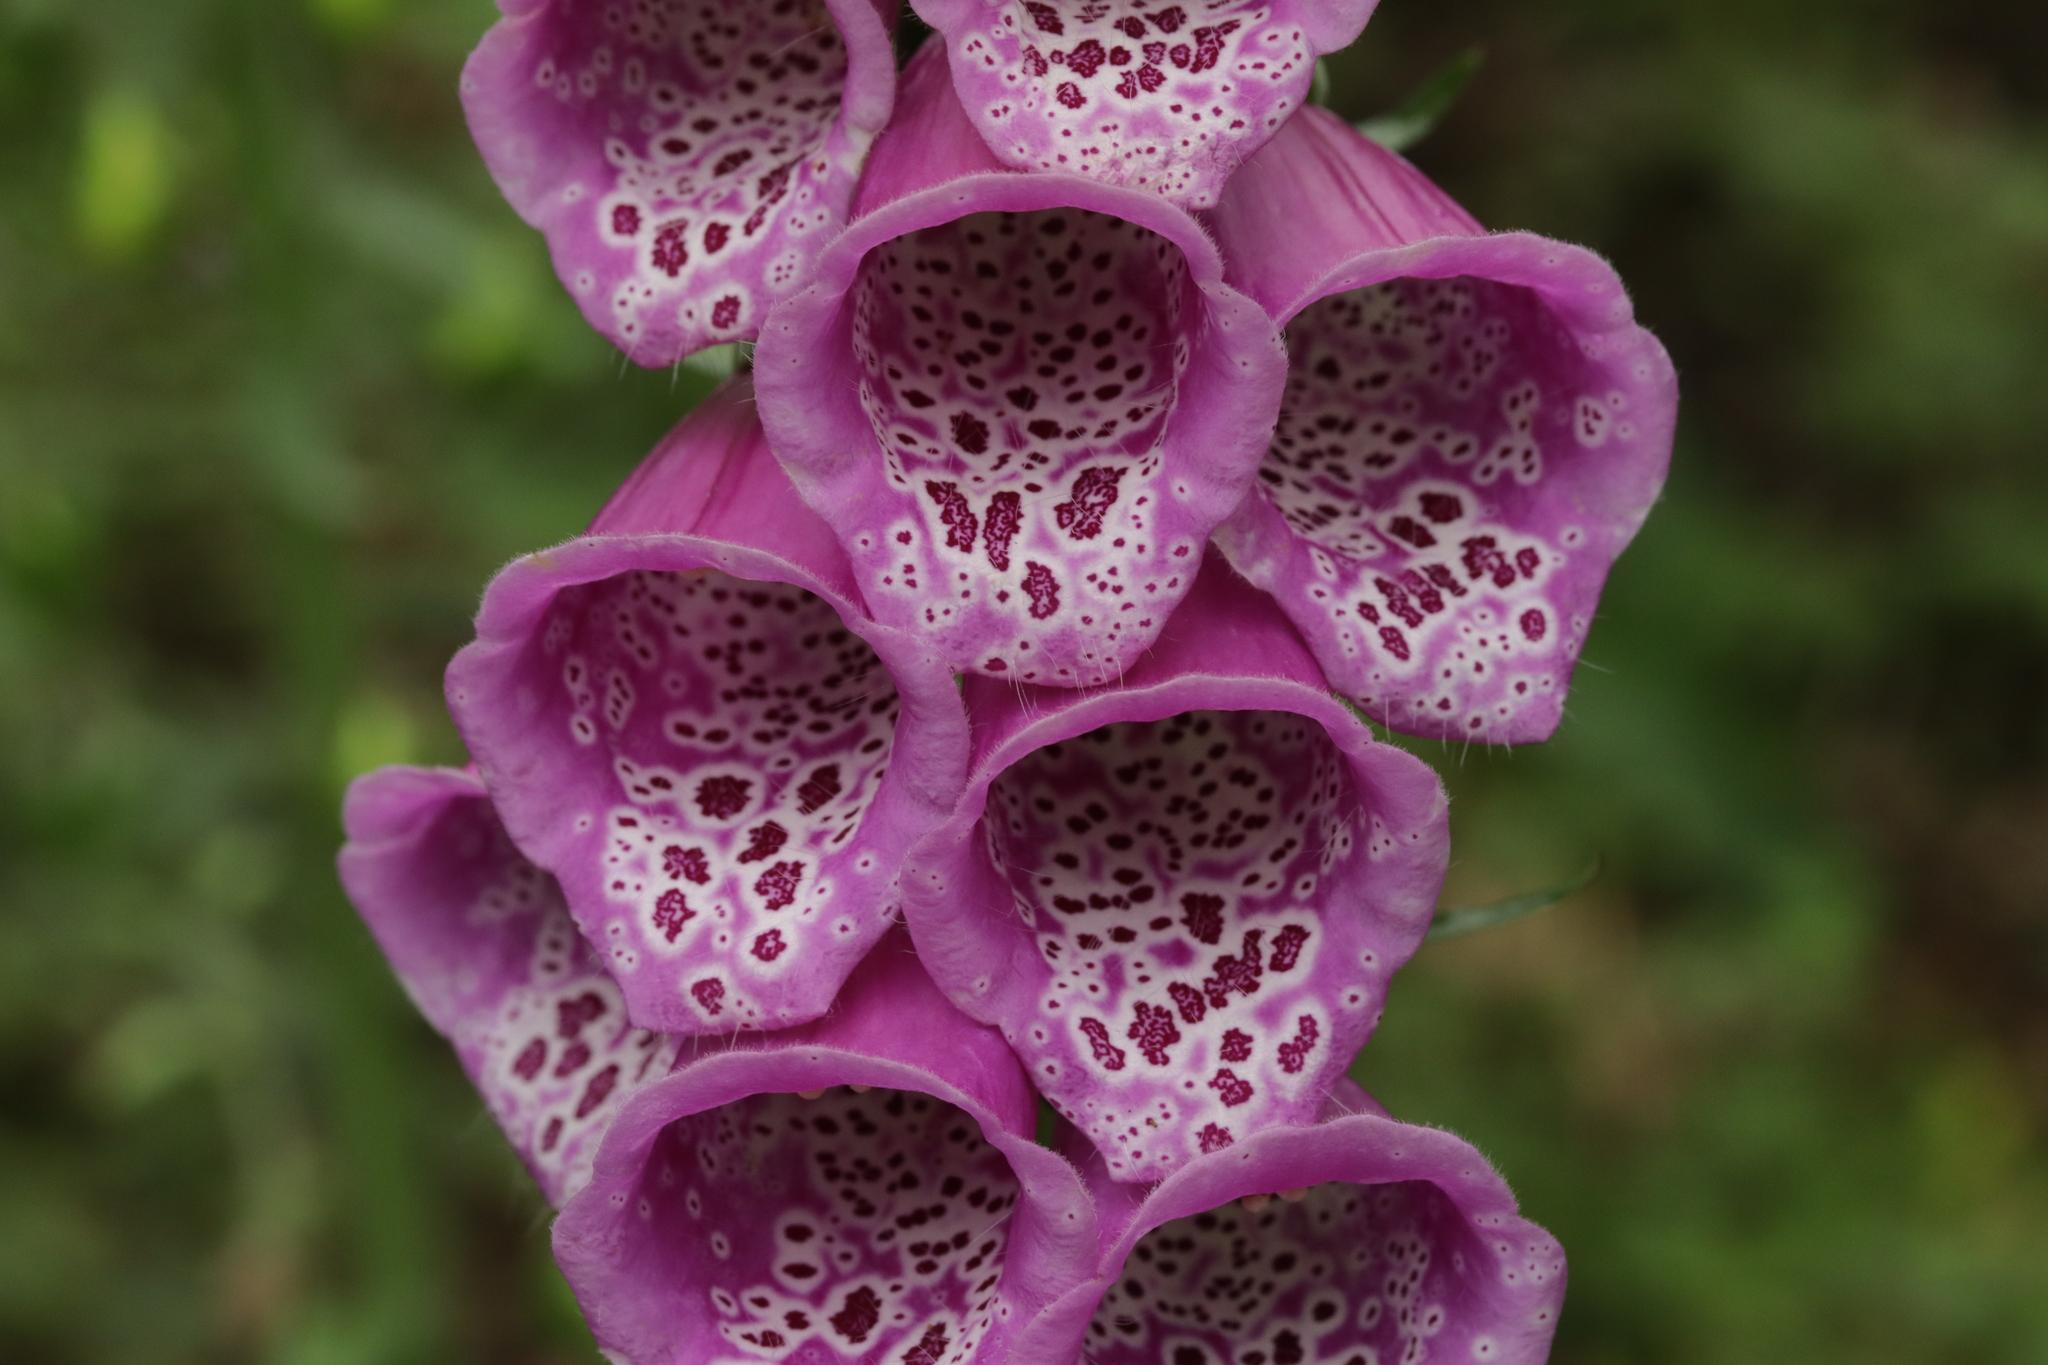Digitalis L: (414, 8, 1561, 1354)
